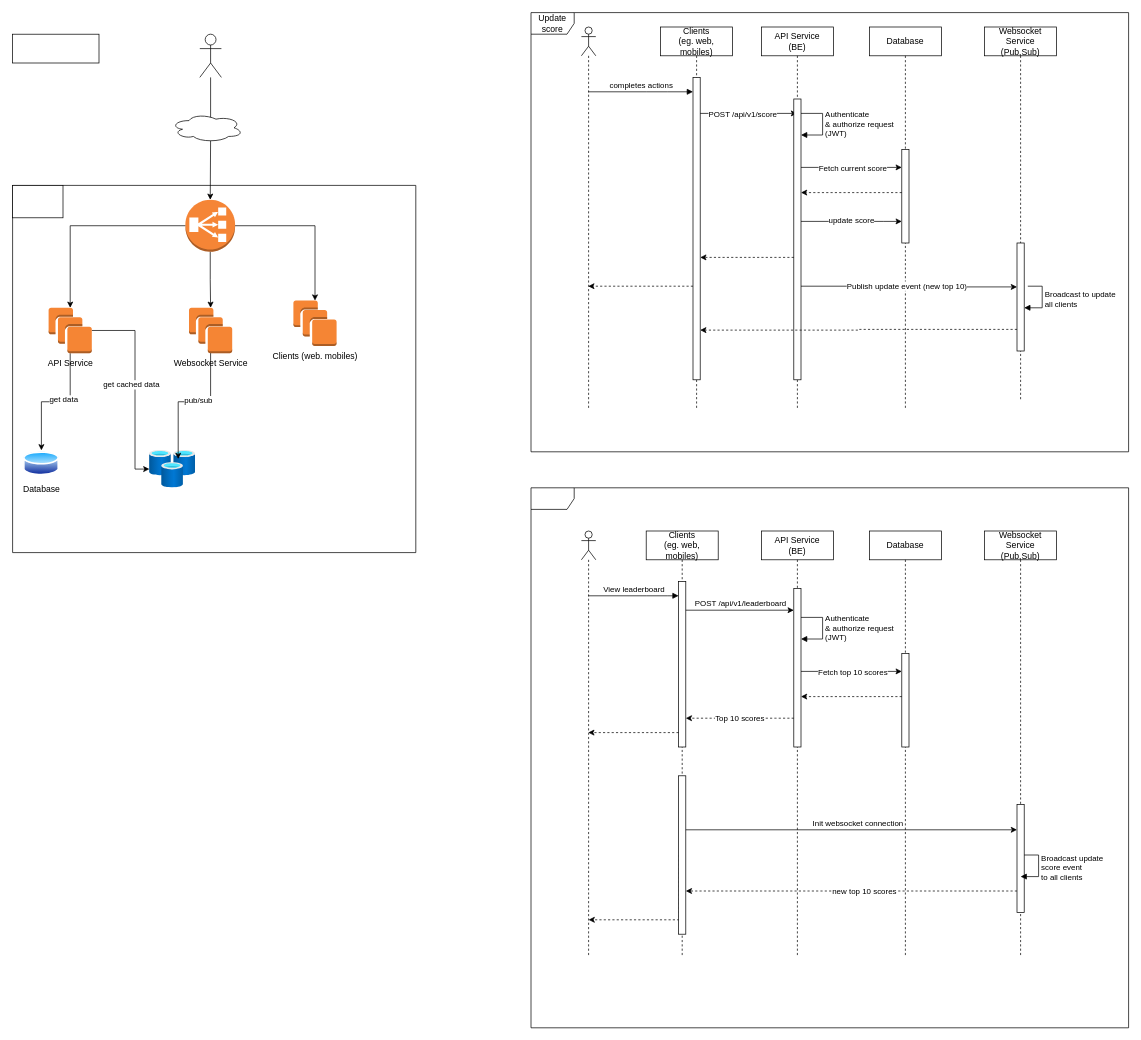
Some shapes in this 1141 by 1040 pixel diagram are drawn without their labels. Here are the shapes that lost their labels. From the top down, the centre of each, then its label:
the point at 55,48: Score Service Architecture
the point at 210,55: Actor
the point at 206,127: HTTPS
the point at 37,201: K8s / cloud
the point at 172,468: Redis
the point at 829,757: View score
